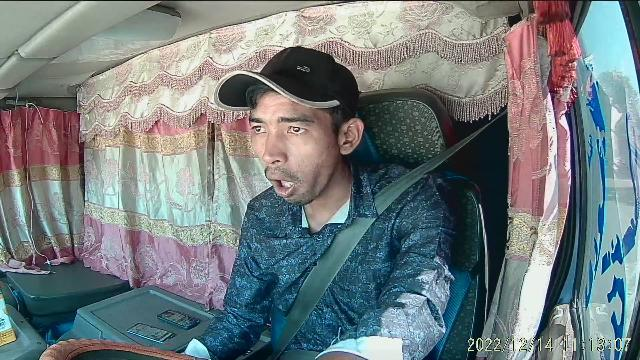PhoneUse: (124, 320, 176, 344), (156, 304, 202, 330)
SafeDriving: (280, 120, 310, 138), (249, 118, 270, 137)
Seatbelt: (282, 138, 476, 352)
